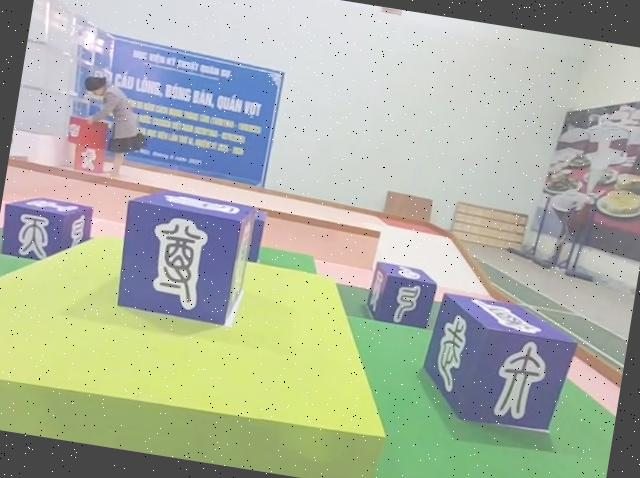R2 Fake Blue: (419, 291, 585, 439), (113, 185, 265, 332), (0, 191, 96, 268), (366, 260, 442, 332)
